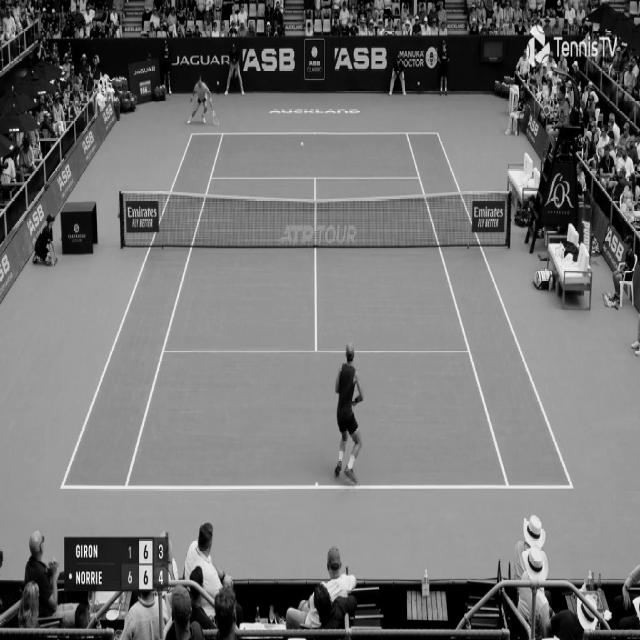tennis-court: (60, 133, 574, 489)
